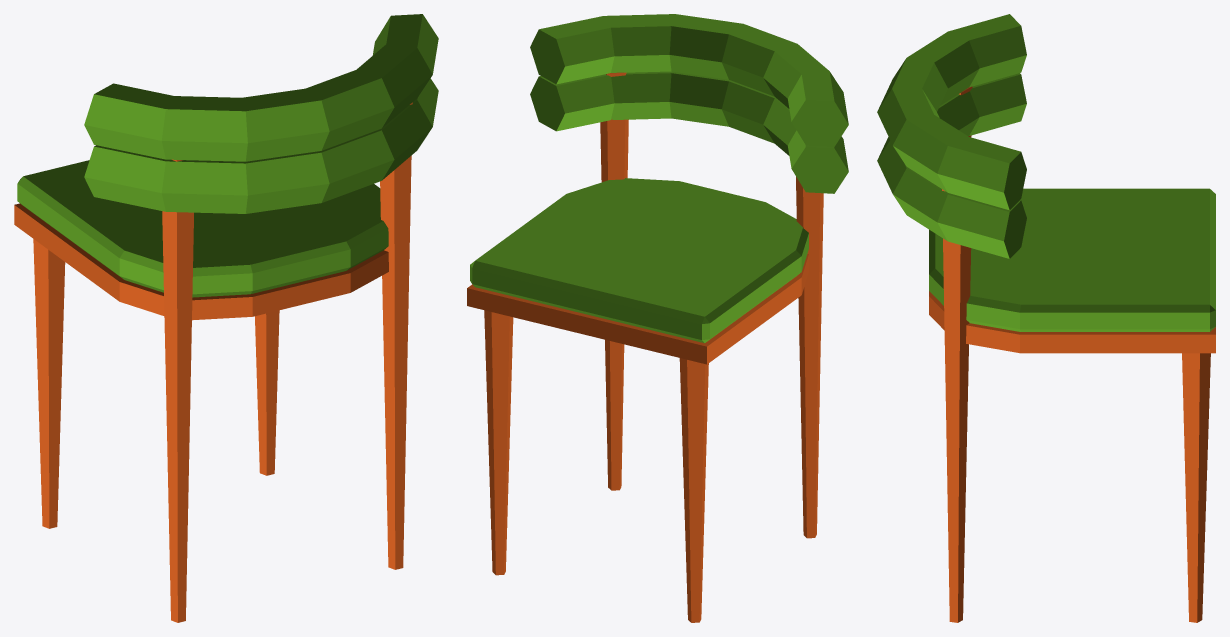
Rendered from Chair 7.fbx.
The picture shows the model from 3 angles, left to right: view 1: azimuth 30°, elevation 25°; view 2: azimuth 150°, elevation 25°; view 3: azimuth 270°, elevation 25°; orthographic projection. The views are drawn at different scales.
Parts seen in each view (by area): view 1: Node 0; view 2: Node 0; view 3: Node 0.
Part boxes in pixels (x1,y1,x2,y2): Node 0: (14,14,438,622); Node 0: (467,14,848,622); Node 0: (877,14,1215,622).
Bounding box in the file's own units: 0.5602 × 0.8793 × 0.6301.
